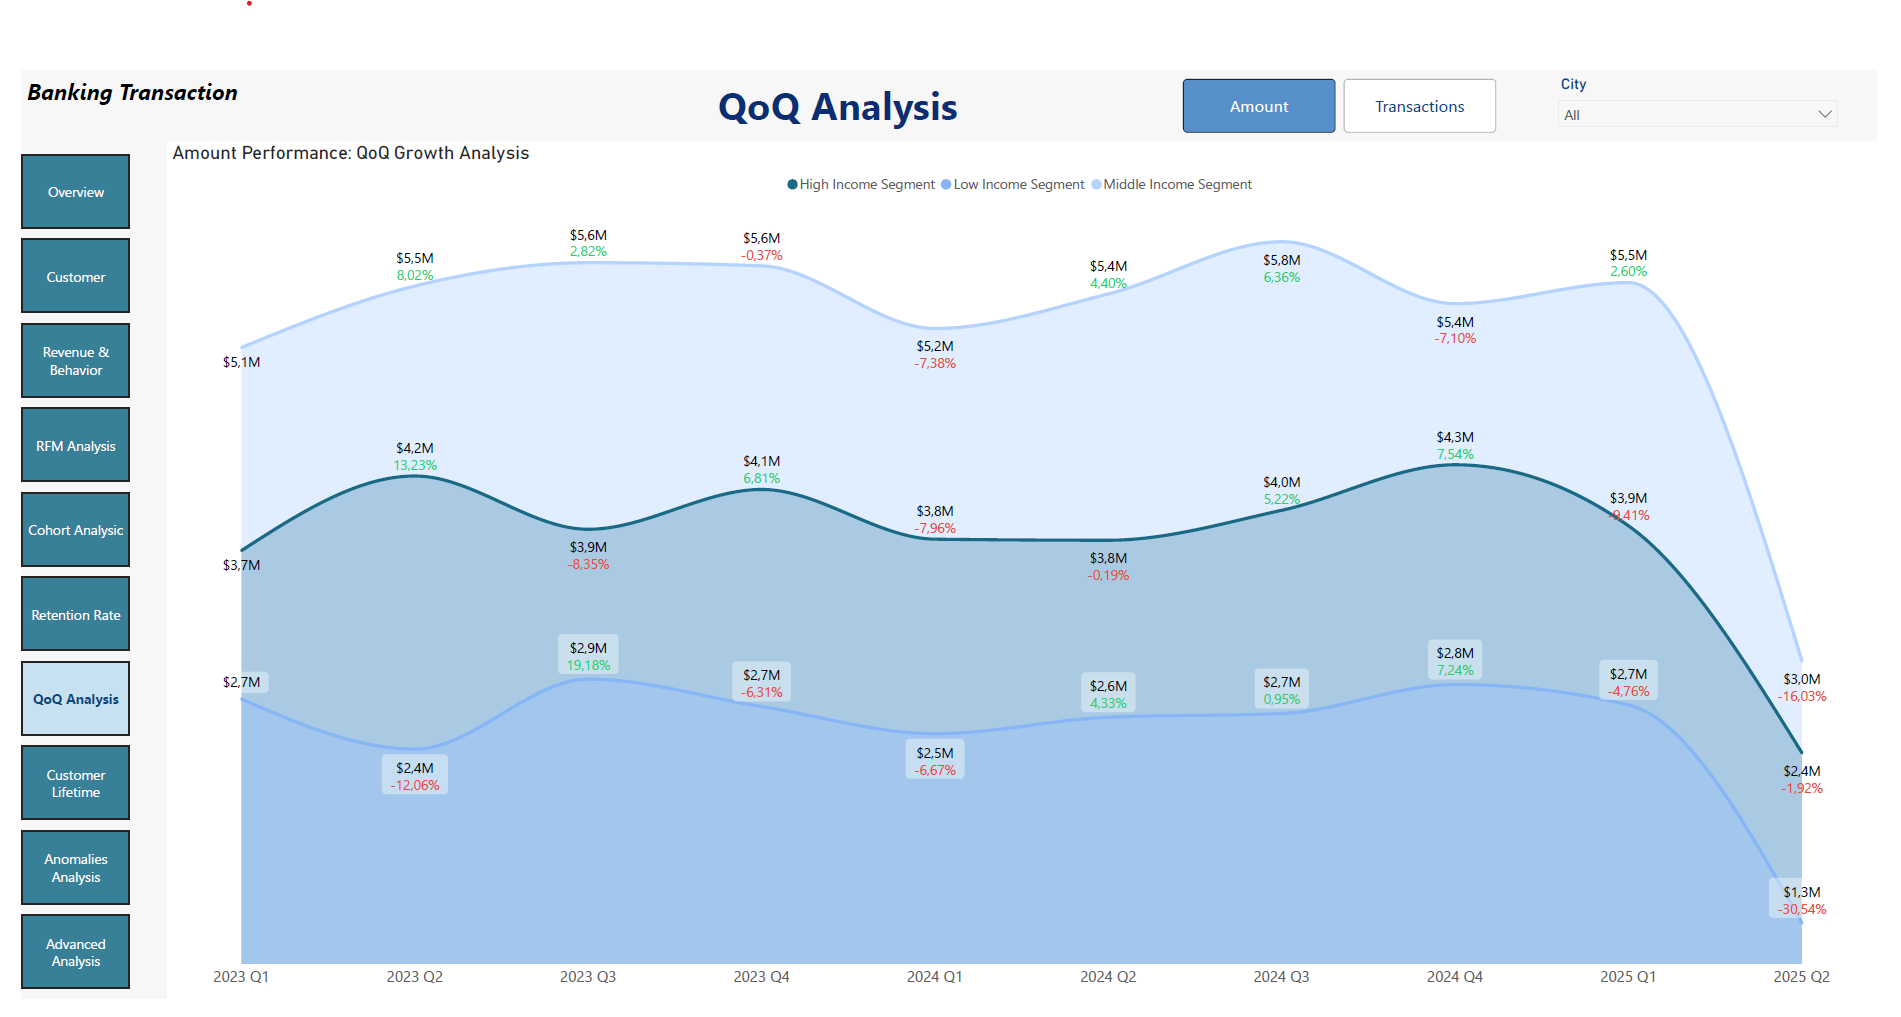

This screenshot's page, from the dashboard's own definition file:
{"tool":"powerbi","page":{"name":"QoQ Analysis","canvas":[1800,900],"ordinal":7},"visuals":[{"type":"slicer","fields":{"Values":["Dim_Location.BranchCity"]},"box":[1481.5,0,291.1,67],"z":0},{"type":"lineChart","fields":{"Y":["All Measures.Total Amount"],"Category":["Dim_Date.Year Quarter"],"Series":["Fact_Transaction.CustomerSegment"]},"box":[141.4,69,1658.6,831],"z":1000},{"type":"advancedSlicerVisual","fields":{"Values":["Select Measure.Select Measure"]},"box":[1121.7,3.3,315,61.7],"z":2000},{"type":"textbox","box":[670.7,3.4,300,67.2],"z":4000},{"type":"textbox","box":[0,0,300,67.2],"z":5000},{"type":"pageNavigator","box":[0,81,105.2,819],"z":5001}]}

Visuals, with their boxes on the page's 1800x900 design canvas (x1, y1, x2, y2). These are canvas units, not pixel positions in the 1901x1017 screenshot, which may show the page scaled, cropped or inside an application window:
slicer - Dim_Location.BranchCity: l=1482, t=0, r=1773, b=67
lineChart - All Measures.Total Amount x Dim_Date.Year Quarter: l=141, t=69, r=1800, b=900
advancedSlicerVisual - Select Measure.Select Measure: l=1122, t=3, r=1437, b=65
textbox: l=671, t=3, r=971, b=71
textbox: l=0, t=0, r=300, b=67
pageNavigator: l=0, t=81, r=105, b=900
